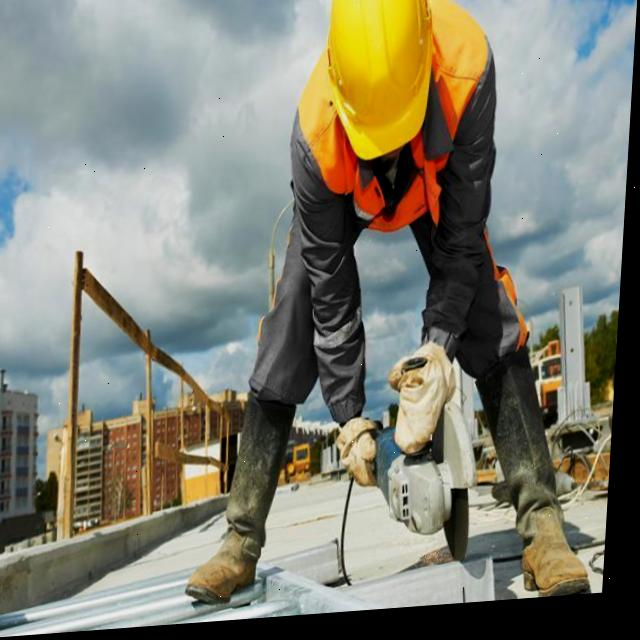Gloves: (389, 345, 463, 464), (337, 421, 389, 495)
Helmet: (319, 0, 438, 170)
Safety-Boot: (470, 351, 610, 611), (191, 391, 303, 610)
Safety-Vest: (292, 0, 494, 245)
